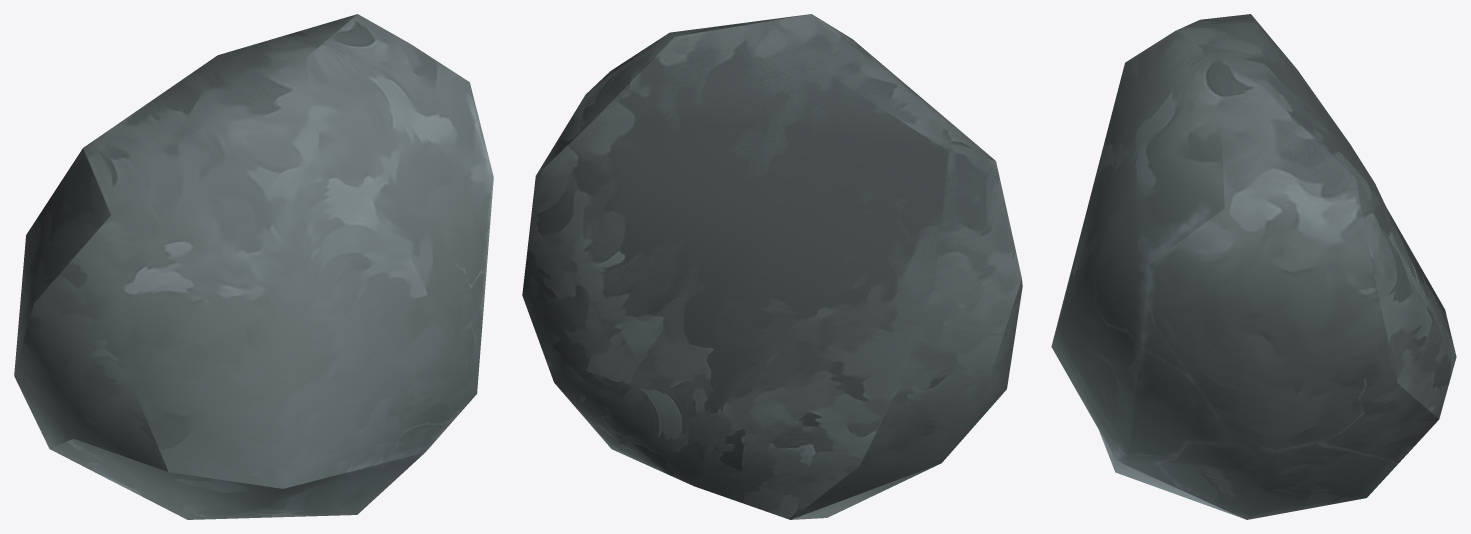
File: kamien_3.obj
3 renders of one model, left to right at view 1: azimuth 30°, elevation 25°; view 2: azimuth 150°, elevation 25°; view 3: azimuth 270°, elevation 25°, orthographic. The views are drawn at different scales.
Parts seen in each view (by area): view 1: rock.016; view 2: rock.016; view 3: rock.016.
Part boxes in pixels (x1,y1,x2,y2): rock.016: (14,14,493,519); rock.016: (522,14,1022,519); rock.016: (1051,14,1456,519).
Bounding box in the file's own units: 6.87 × 6.66 × 5.39.
Materials: 1 (1 with a texture image).
